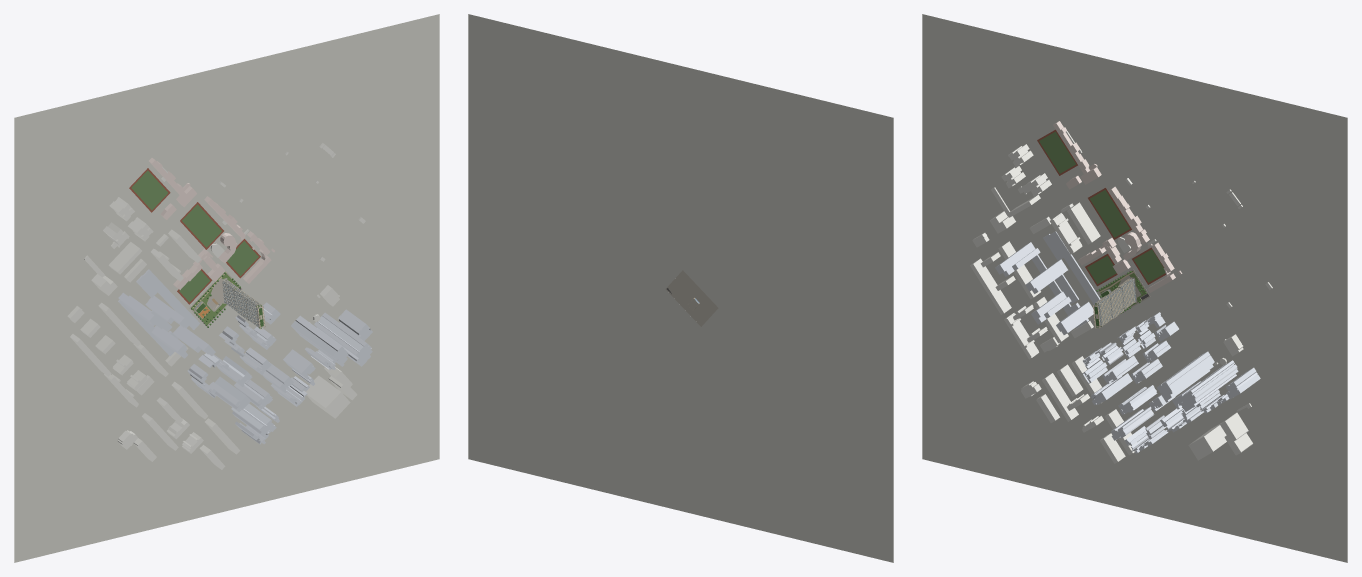
File: 화랑A_상세+주변.obj
3 renders of one model, left to right at view 1: azimuth 30°, elevation 25°; view 2: azimuth 150°, elevation 25°; view 3: azimuth 330°, elevation 25°, orthographic.
Parts seen in each view (by area): view 1: ground, context_new, context, school, field, slab, track, glass, railing, paving; view 2: ground, paving; view 3: ground, context_new, context, school, field, track, slab, fin, glass.
Part boxes in pixels (bbox=[...]): ground: bbox=[14, 14, 439, 562]; context_new: bbox=[118, 269, 372, 444]; context: bbox=[67, 143, 365, 469]; school: bbox=[149, 158, 274, 289]; field: bbox=[131, 170, 258, 302]; slab: bbox=[195, 279, 264, 327]; track: bbox=[129, 168, 260, 304]; glass: bbox=[194, 280, 260, 327]; railing: bbox=[200, 282, 257, 326]; paving: bbox=[189, 270, 242, 326]; ground: bbox=[468, 14, 893, 562]; paving: bbox=[665, 270, 718, 326]; ground: bbox=[922, 14, 1347, 562]; context_new: bbox=[995, 231, 1260, 453]; context: bbox=[970, 131, 1272, 463]; school: bbox=[1053, 121, 1182, 292]; field: bbox=[1039, 131, 1165, 284]; track: bbox=[1037, 129, 1165, 286]; slab: bbox=[1093, 278, 1145, 327]; fin: bbox=[1097, 279, 1134, 325]; glass: bbox=[1096, 278, 1136, 325].
Size of the model in its own units: 1150 by 1150 by 202.
